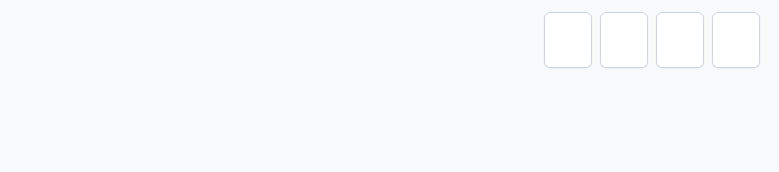
it: OtpInput — interactions › handles a multi-digit paste, distributing across inputs and focusing the last
The width and height of the screenshot is (779, 172).
Type "1234" into the 1st field at (568, 40), box [544, 12, 592, 68]
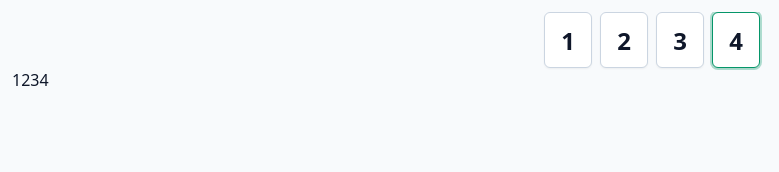
Now the text with test id "value" reads "1234", box [12, 69, 49, 91]
